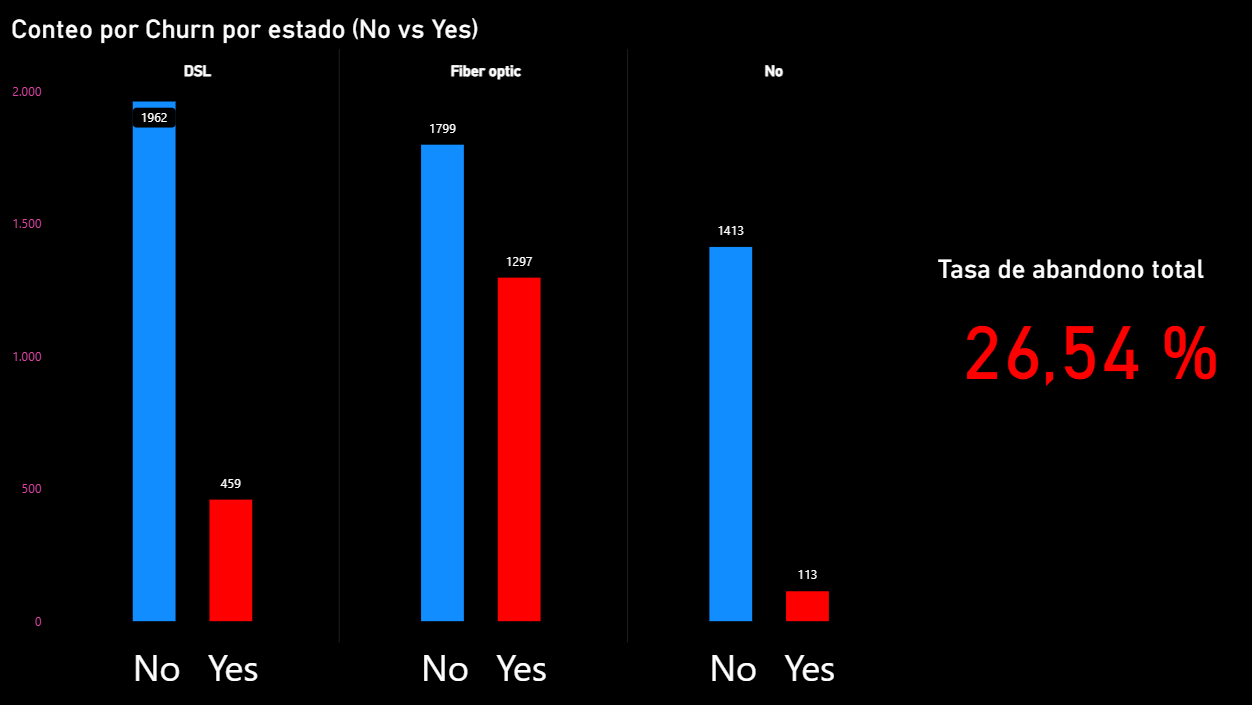

Layout of this report page (visuals, bound fields, positions):
{"tool":"powerbi","page":{"name":"Página 1","canvas":[1280,720],"ordinal":0},"visuals":[{"type":"columnChart","title":"Conteo por Churn por estado (No vs Yes)","fields":{"Category":["public v_clientes_limpios.se_fue"],"Y":["CountNonNull(public v_clientes_limpios.customerid)"],"Rows":["public v_clientes_limpios.tipo_internet"]},"box":[0,31.5,906.7,688.8],"z":0},{"type":"card","title":"Tasa de abandono total","fields":{"Values":["public v_clientes_limpios.Tasa de Churn"]},"box":[906.7,273.6,307.5,141.6],"z":1000}]}

Visuals, with their boxes in screenshot pixels (x1, y1, x2, y2), scaled from the page's 1280x720 canvas onto the 1252x705 screenshot:
"Conteo por Churn por estado (No vs Yes)" columnChart: Rect(0, 31, 887, 704)
"Tasa de abandono total" card: Rect(887, 268, 1188, 407)
